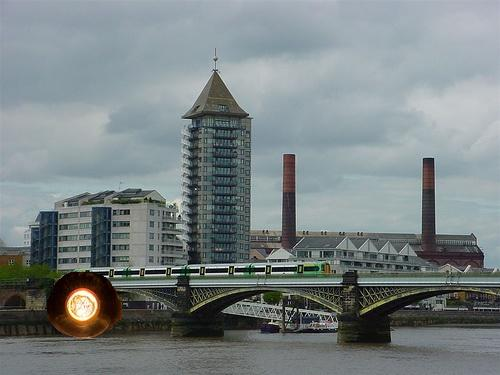tampered: (48, 273, 122, 338)
